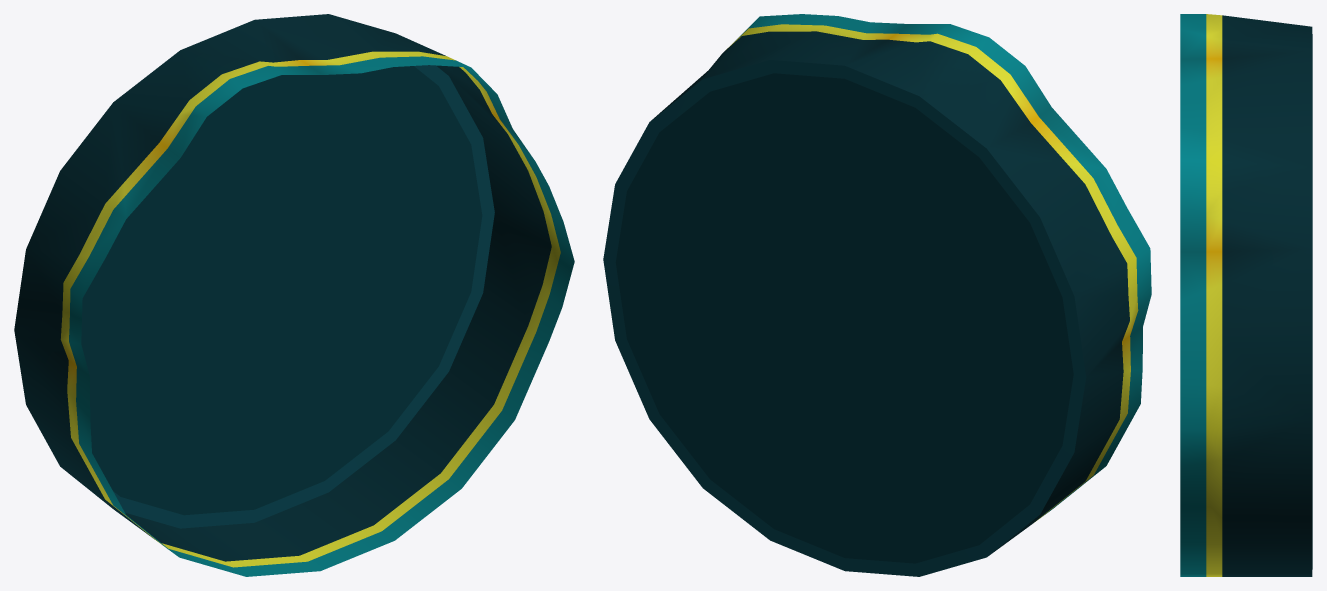
File: AnniversaryTableRound.fbx
The picture shows the model from 3 angles, left to right: view 1: azimuth 30°, elevation 25°; view 2: azimuth 150°, elevation 25°; view 3: azimuth 270°, elevation 25°; orthographic projection.
Visible parts, largest first — view 1: AnniversaryTableRound; view 2: AnniversaryTableRound; view 3: AnniversaryTableRound.
Part boxes in pixels (bbox=[...]): AnniversaryTableRound: bbox=[14, 14, 574, 576]; AnniversaryTableRound: bbox=[603, 14, 1151, 576]; AnniversaryTableRound: bbox=[1180, 14, 1312, 576].
Bounding box in the file's own units: 217 × 212 × 50.22.
